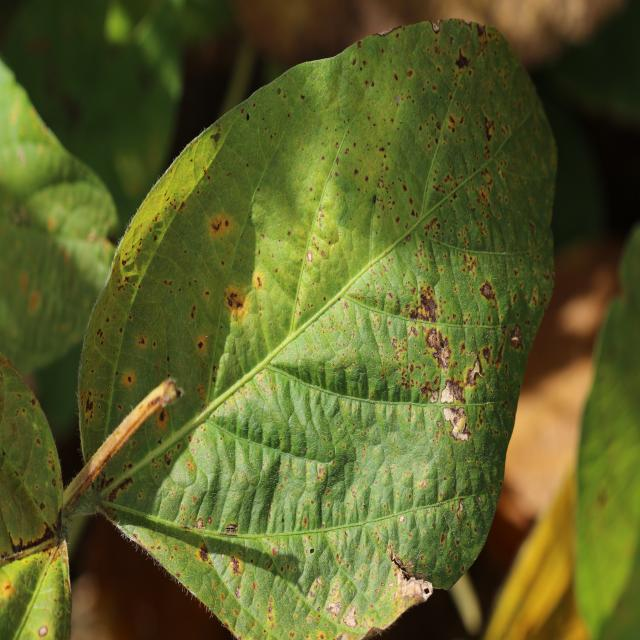Bacterial_Blight: (212, 290, 277, 403), (68, 481, 119, 532), (425, 325, 452, 371), (388, 545, 419, 582), (442, 403, 470, 442), (386, 334, 410, 379), (221, 279, 246, 321), (412, 285, 439, 321), (103, 476, 134, 504), (160, 377, 182, 408), (57, 511, 75, 548), (492, 328, 508, 367), (442, 376, 464, 404), (209, 212, 232, 238), (465, 356, 483, 387), (462, 251, 479, 275), (342, 605, 359, 628), (508, 324, 523, 350), (454, 48, 470, 71), (423, 217, 441, 237), (196, 543, 211, 566), (120, 370, 137, 390), (480, 280, 495, 302), (484, 115, 496, 142), (377, 25, 401, 37), (55, 507, 64, 535), (195, 335, 208, 354), (420, 381, 433, 399), (481, 346, 492, 366), (476, 22, 487, 42), (229, 557, 241, 575), (224, 522, 239, 536), (253, 273, 265, 290), (456, 498, 464, 522), (429, 386, 440, 403), (422, 583, 433, 600), (429, 19, 442, 33), (196, 384, 206, 402), (85, 395, 94, 415), (210, 130, 221, 146), (158, 409, 167, 424), (149, 396, 161, 407), (164, 451, 172, 467), (38, 625, 48, 637), (96, 328, 104, 342), (190, 305, 197, 320), (270, 544, 278, 557), (306, 251, 314, 263), (196, 518, 204, 530), (234, 587, 241, 600), (138, 335, 146, 346), (302, 516, 309, 528), (371, 194, 378, 206), (124, 462, 133, 471), (440, 533, 446, 545), (399, 515, 406, 525), (394, 94, 401, 104), (4, 583, 12, 591), (393, 71, 399, 81), (39, 501, 45, 511), (318, 632, 325, 640), (407, 69, 413, 78), (351, 58, 357, 66), (379, 145, 385, 152), (353, 168, 358, 176), (246, 112, 250, 122), (310, 547, 315, 554), (277, 87, 281, 95)
Soybean: (57, 20, 556, 640)
